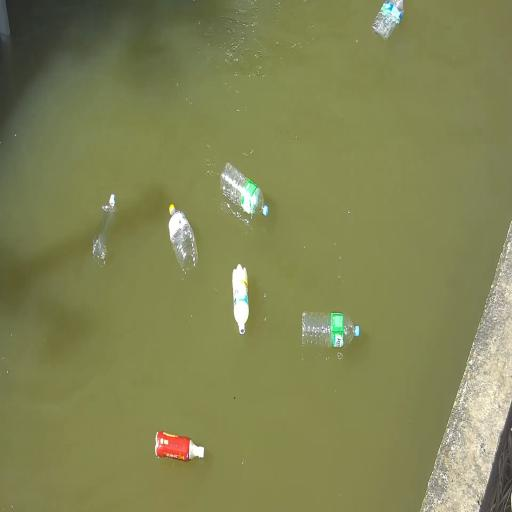plastic: (221, 163, 268, 217), (302, 312, 359, 347), (169, 205, 197, 272), (93, 194, 116, 266), (155, 431, 204, 461), (372, 0, 403, 39), (232, 264, 249, 334)
